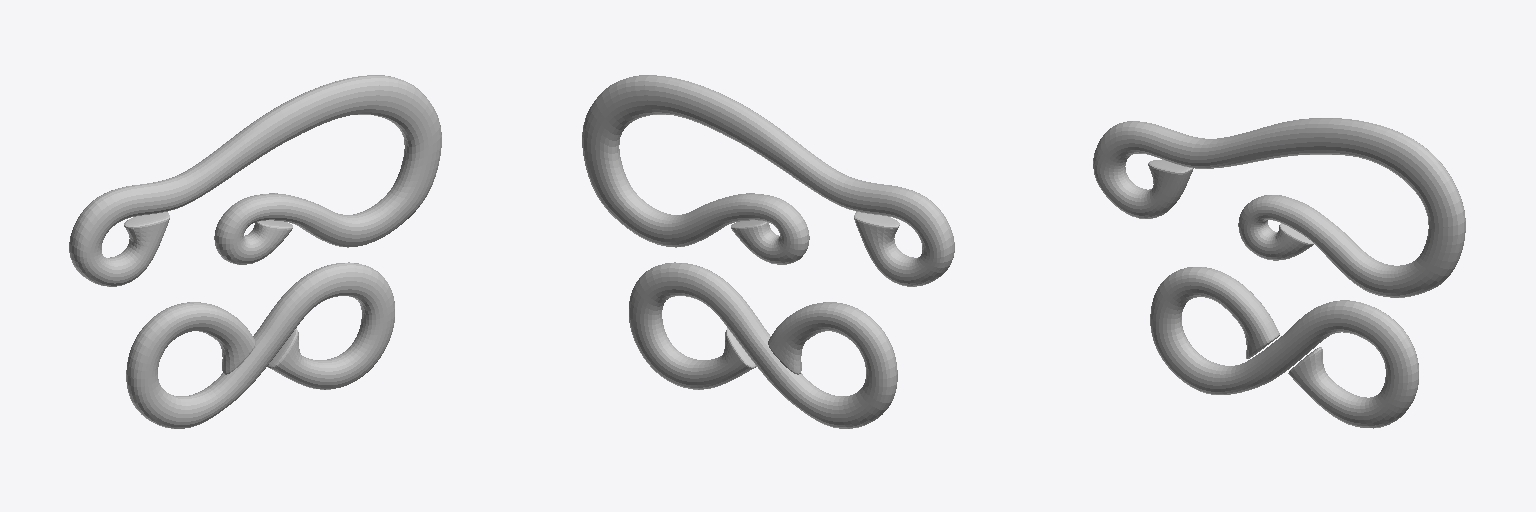
File: 20240_Hook-and-eye_clasp_v1.obj
3 renders of one model, left to right at view 1: azimuth 30°, elevation 25°; view 2: azimuth 150°, elevation 25°; view 3: azimuth 330°, elevation 25°, orthographic.
Visible parts, largest first — view 1: 20240_Hook_and_eye_clasp_v1; view 2: 20240_Hook_and_eye_clasp_v1; view 3: 20240_Hook_and_eye_clasp_v1.
Part boxes in pixels (x1,y1,x2,y2): 20240_Hook_and_eye_clasp_v1: (69, 75, 441, 428); 20240_Hook_and_eye_clasp_v1: (582, 75, 954, 428); 20240_Hook_and_eye_clasp_v1: (1093, 118, 1465, 428).
Bounding box in the file's own units: 3.25 × 2.59 × 0.2107.